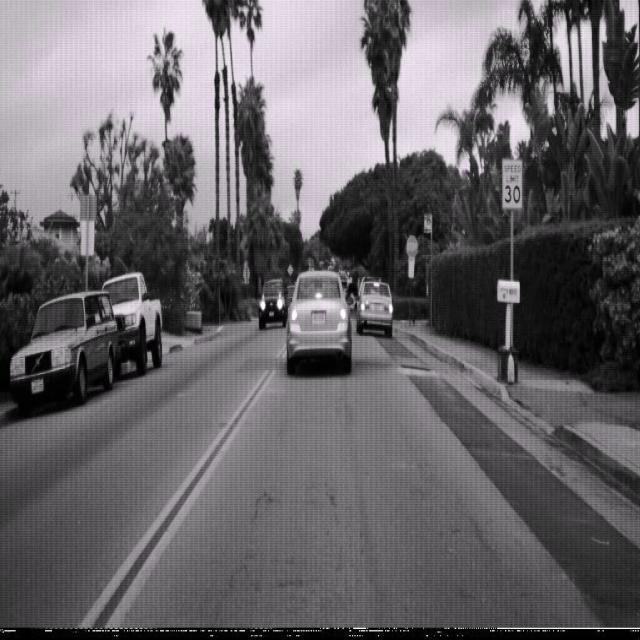stop_sign: (406, 234, 418, 258)
